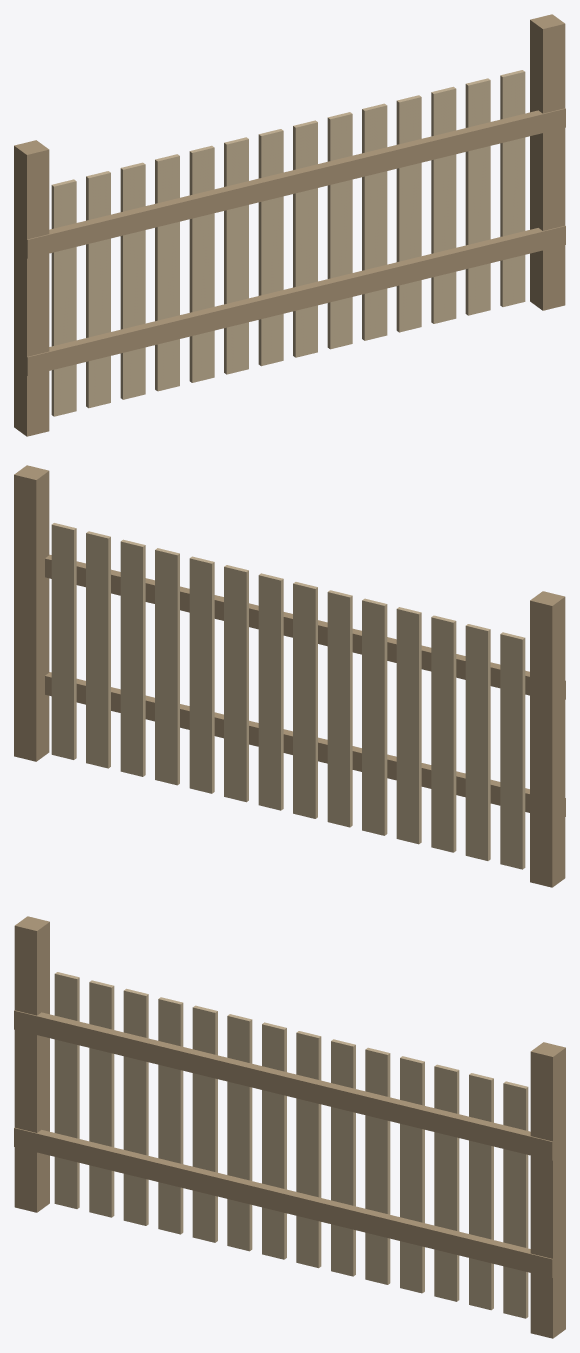
The model's file is dm_woodfence.glb.
The picture shows the model from 3 angles, top to bottom: view 1: azimuth 30°, elevation 25°; view 2: azimuth 150°, elevation 25°; view 3: azimuth 330°, elevation 25°; orthographic projection.
Parts seen in each view (by area): view 1: FenceWood; view 2: FenceWood; view 3: FenceWood.
Part boxes in pixels (bbox=[...]): FenceWood: bbox=[14, 14, 565, 436]; FenceWood: bbox=[14, 465, 565, 887]; FenceWood: bbox=[14, 916, 565, 1338].
Bounding box in the file's own units: 2.4 × 1.2 × 0.105.
